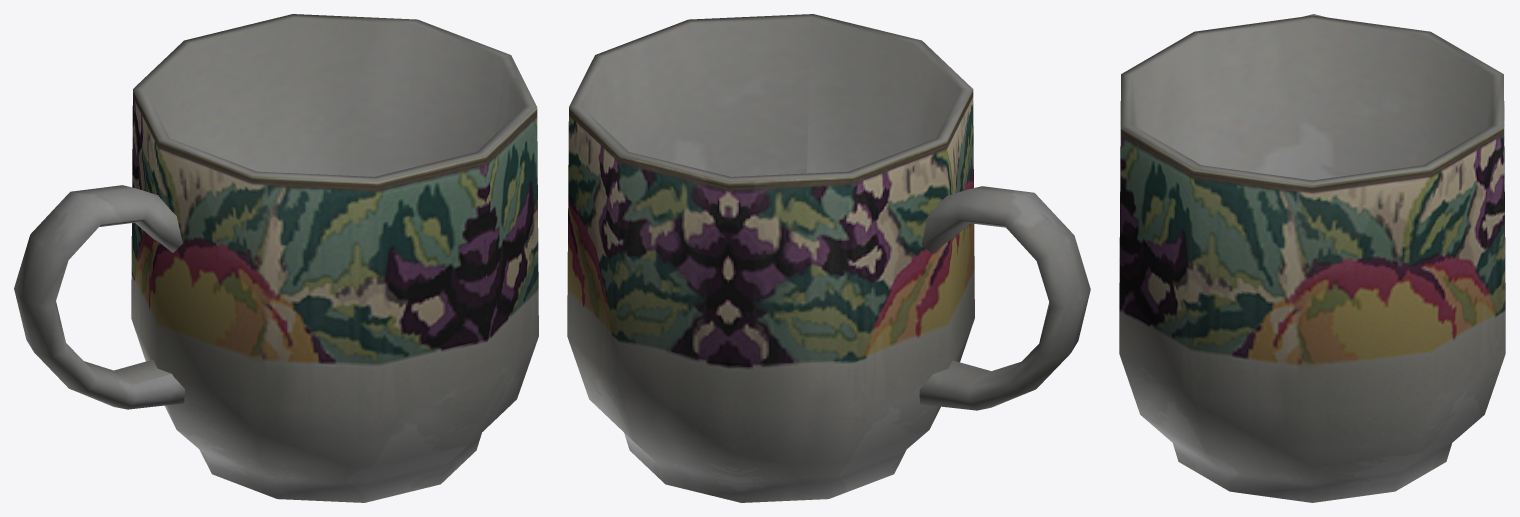
The model's file is cup-4.FBX.
The picture shows the model from 3 angles, left to right: view 1: azimuth 30°, elevation 25°; view 2: azimuth 150°, elevation 25°; view 3: azimuth 270°, elevation 25°; orthographic projection.
Visible parts, largest first — view 1: cup-4_LOD0; view 2: cup-4_LOD0; view 3: cup-4_LOD0.
Part boxes in pixels (bbox=[...]): cup-4_LOD0: bbox=[14, 14, 538, 502]; cup-4_LOD0: bbox=[567, 14, 1090, 502]; cup-4_LOD0: bbox=[1119, 14, 1505, 502].
Size of what is drawn, in the model's own units: 5.15 by 3.47 by 3.54.
